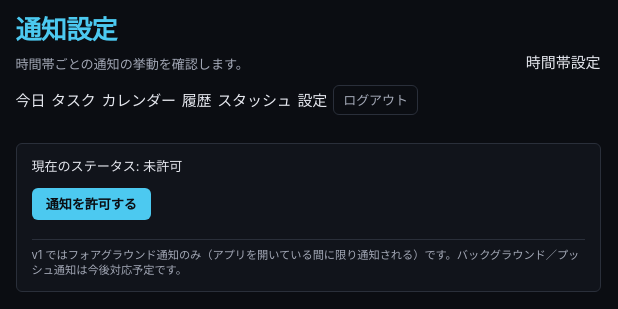
Test case: SettingsNotificationsPage › ボタンクリックで requestPermission が呼ばれ、許可後は「許可済み」表示に切替
Click the button "通知を許可する": {"x": 91, "y": 204} [32, 188, 151, 220]
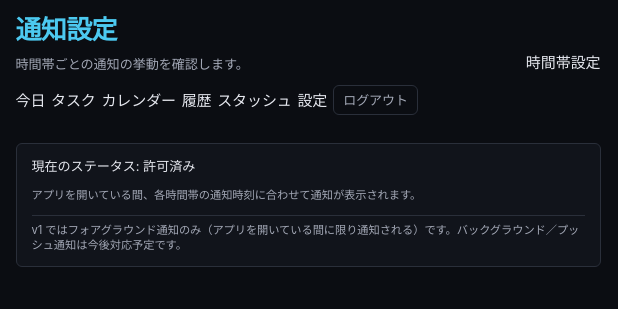
Expected: the text "許可済み" is shown, [143, 159, 195, 174]
